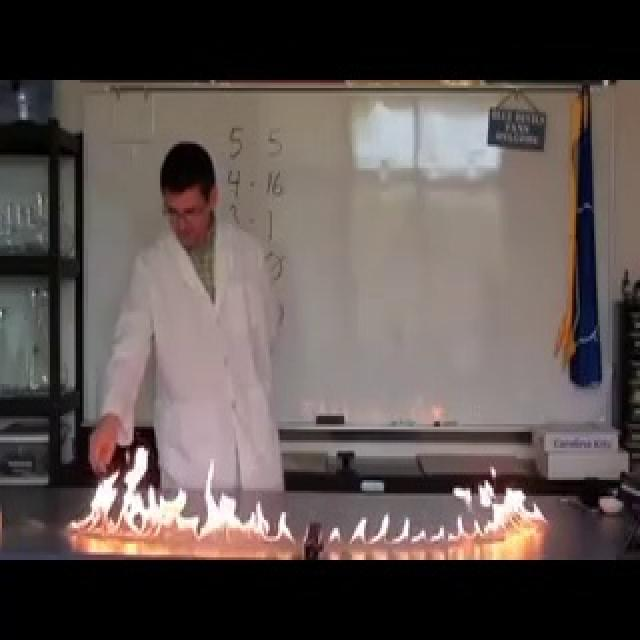fire: (71, 442, 299, 544), (448, 462, 546, 550)
